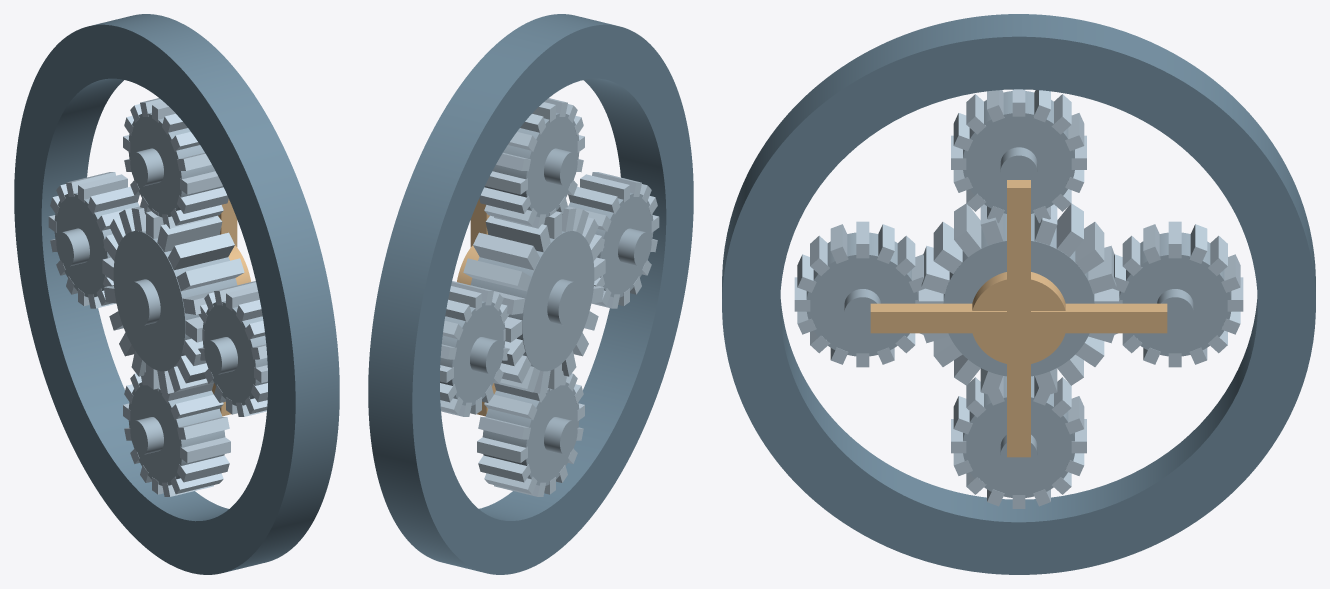
Rendered from planetary-reducer.glb.
3 views of the same model, side by side, from view 1: azimuth 30°, elevation 25°; view 2: azimuth 150°, elevation 25°; view 3: azimuth 270°, elevation 25° (orthographic). The views are drawn at different scales.
Parts seen in each view (by area): view 1: planetary-reducer - shell, planetary-reducer - steel, planetary-reducer - blade, planetary-reducer - bronze; view 2: planetary-reducer - shell, planetary-reducer - steel, planetary-reducer - blade, planetary-reducer - bronze; view 3: planetary-reducer - shell, planetary-reducer - steel, planetary-reducer - blade, planetary-reducer - bronze.
Part boxes in pixels (x1=…): planetary-reducer - shell: x1=14, y1=14, x2=339, y2=574; planetary-reducer - steel: x1=54, y1=112, x2=267, y2=485; planetary-reducer - blade: x1=48, y1=98, x2=267, y2=496; planetary-reducer - bronze: x1=212, y1=199, x2=251, y2=416; planetary-reducer - shell: x1=368, y1=14, x2=693, y2=574; planetary-reducer - steel: x1=440, y1=112, x2=653, y2=485; planetary-reducer - blade: x1=440, y1=98, x2=659, y2=496; planetary-reducer - bronze: x1=457, y1=199, x2=495, y2=416; planetary-reducer - shell: x1=722, y1=14, x2=1315, y2=574; planetary-reducer - steel: x1=806, y1=91, x2=1231, y2=497; planetary-reducer - blade: x1=794, y1=89, x2=1243, y2=508; planetary-reducer - bronze: x1=870, y1=180, x2=1167, y2=457.
Size of the model in its own units: 0.265 by 1.38 by 1.38.
